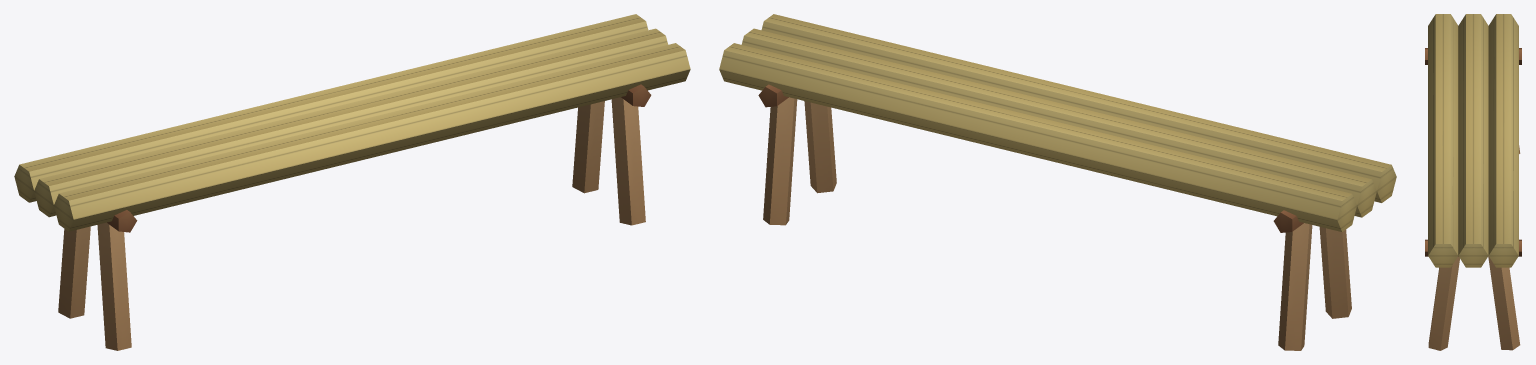
The model's file is market_bench.glb.
3 renders of one model, left to right at view 1: azimuth 30°, elevation 25°; view 2: azimuth 150°, elevation 25°; view 3: azimuth 270°, elevation 25°, orthographic. The views are drawn at different scales.
Parts seen in each view (by area): view 1: market_bench; view 2: market_bench; view 3: market_bench.
Part boxes in pixels (<box>): market_bench: <box>14,14,690,350</box>; market_bench: <box>719,14,1396,350</box>; market_bench: <box>1425,14,1521,350</box>.
Size of the model in its own units: 1.8 by 0.4477 by 0.32.
Materials: 1 (1 with a texture image).
